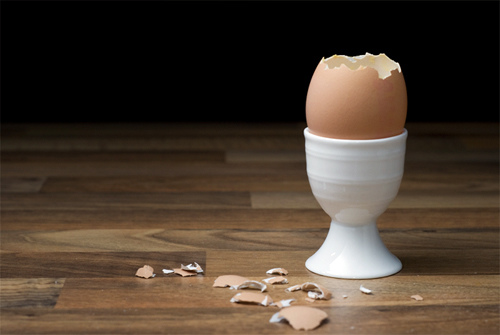egg: (308, 47, 410, 142)
